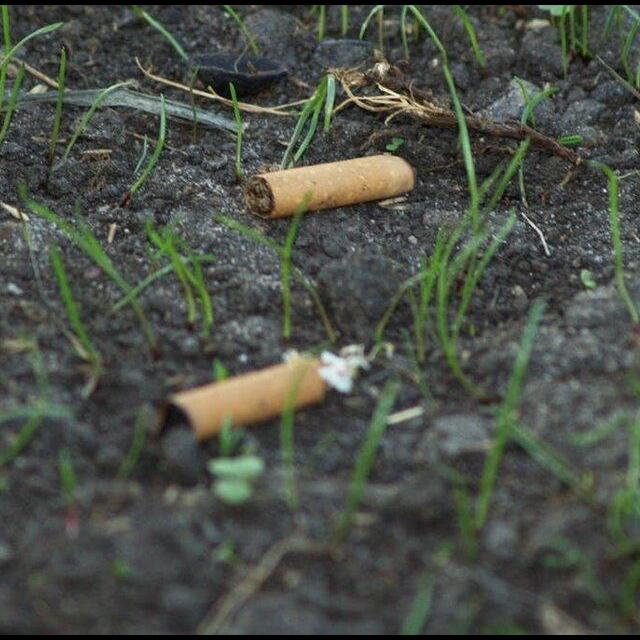Cigarette Butt: (160, 356, 329, 445), (244, 153, 417, 220)
